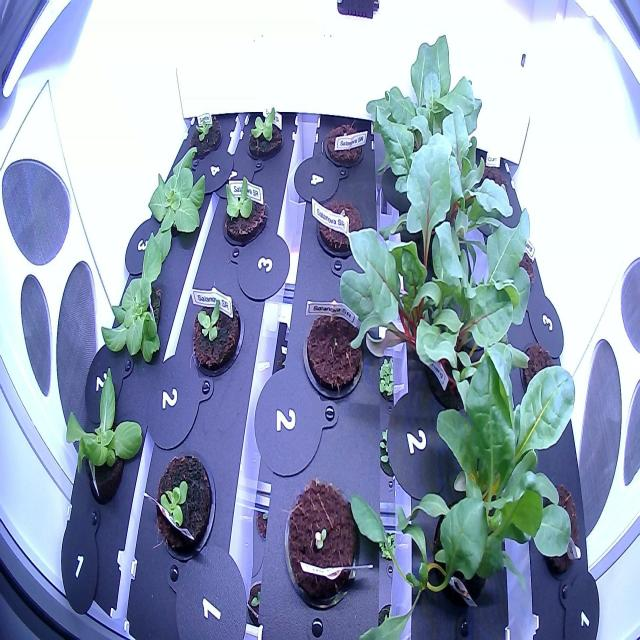germination: (274, 470, 365, 616)
pod: (293, 295, 372, 403), (528, 467, 586, 584), (514, 331, 570, 414), (312, 188, 368, 261), (316, 112, 369, 176)
young: (56, 366, 152, 520), (88, 227, 170, 371), (133, 142, 214, 262), (148, 446, 220, 568), (186, 279, 250, 384), (216, 169, 273, 255), (239, 98, 285, 166), (186, 103, 227, 165)
